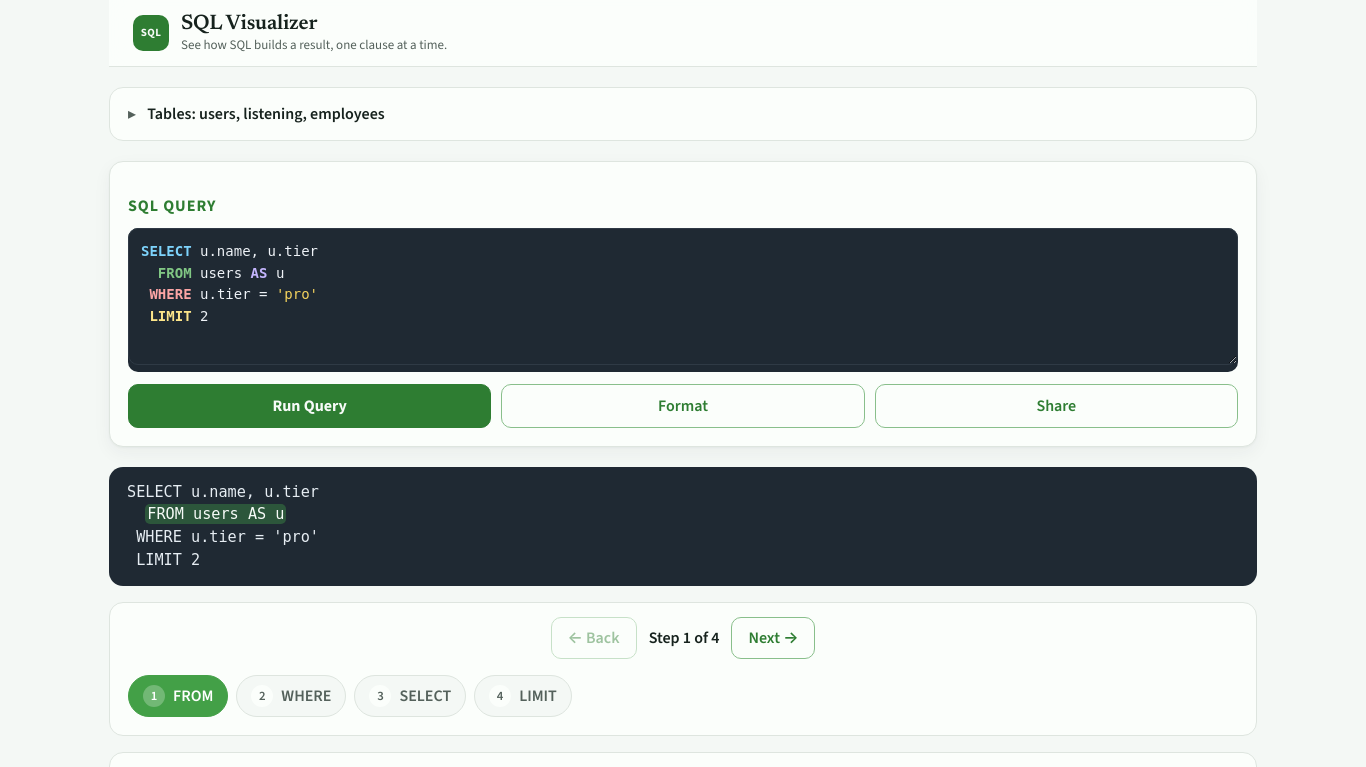
it: App › runs a new query, resets to step 1 and shows friendly errors
The image size is (1366, 767).
Clear the text box labelled "SQL query" at (683, 296), box [128, 228, 1238, 364]
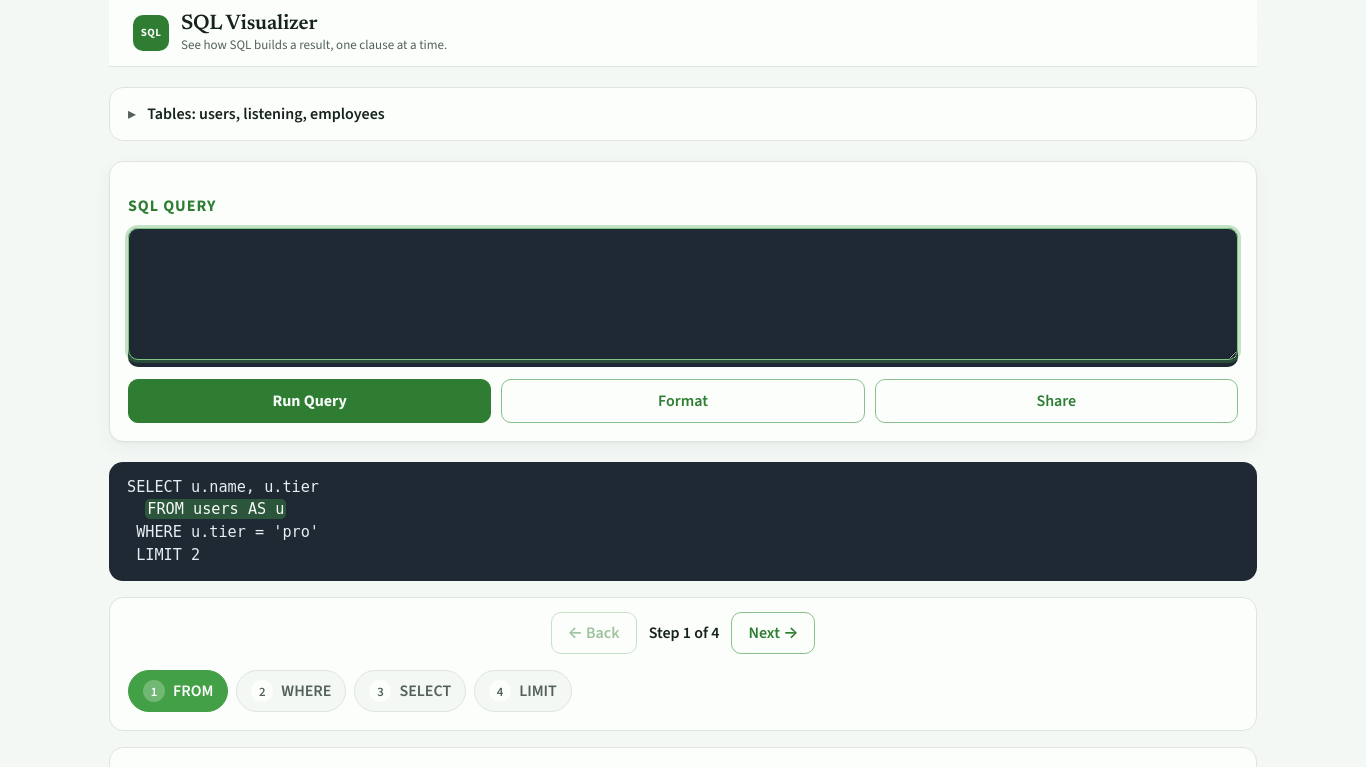
Type "SELECT name FROM users ORDER BY name DESC" into the text box labelled "SQL query" at (683, 294), box [128, 228, 1238, 360]
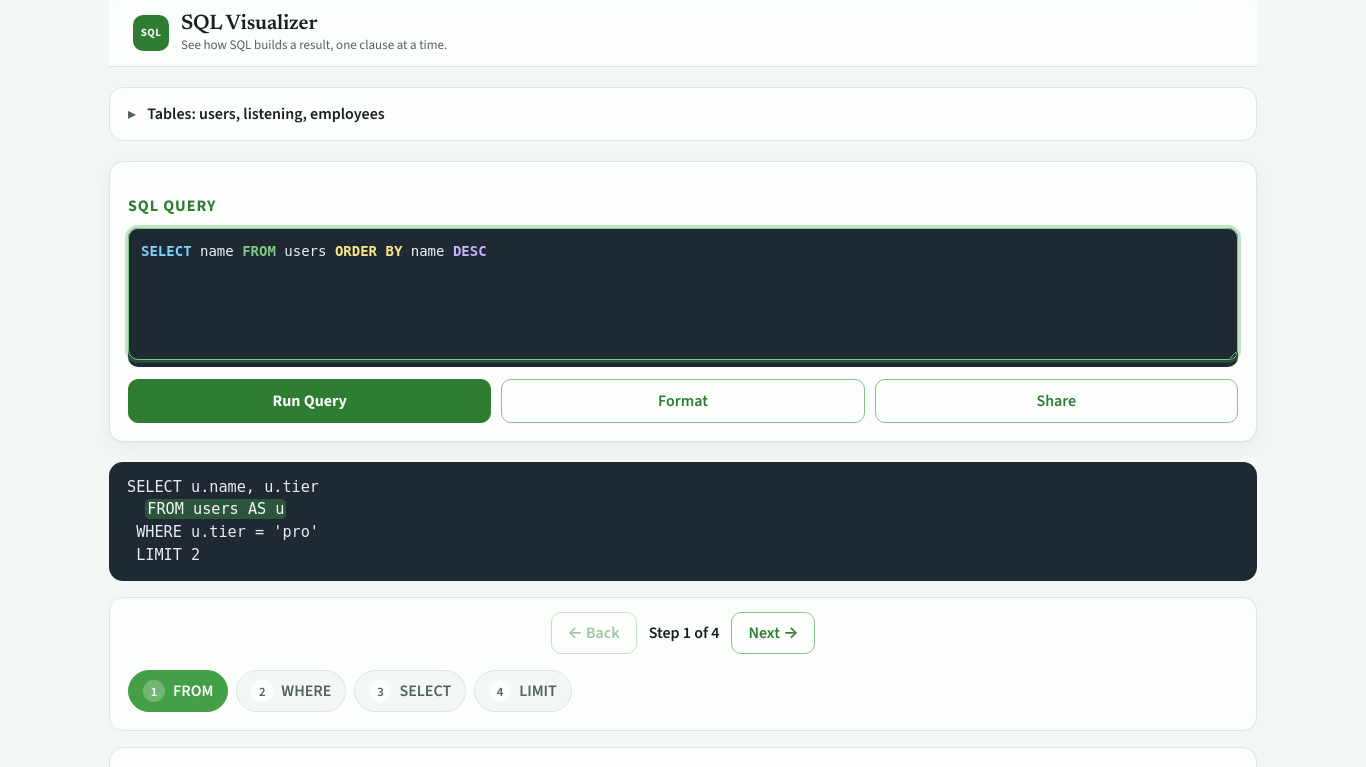
Click the button "Run Query" at (310, 401), box [128, 379, 491, 423]
(page scrolled)
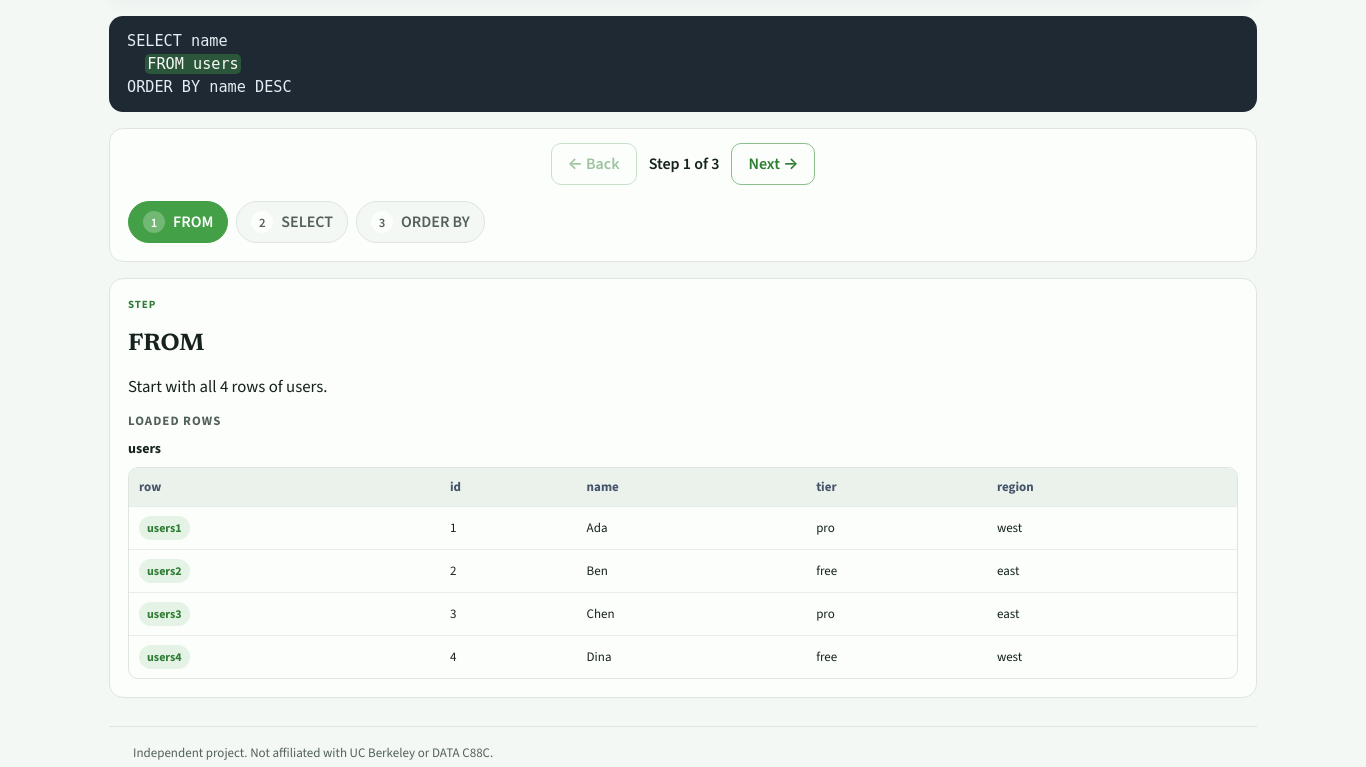
Check: the text "Step 1 of 3" is shown, box [649, 152, 719, 176]
Click the button "3 ORDER BY" at (420, 222), box [356, 202, 485, 244]
(page scrolled)
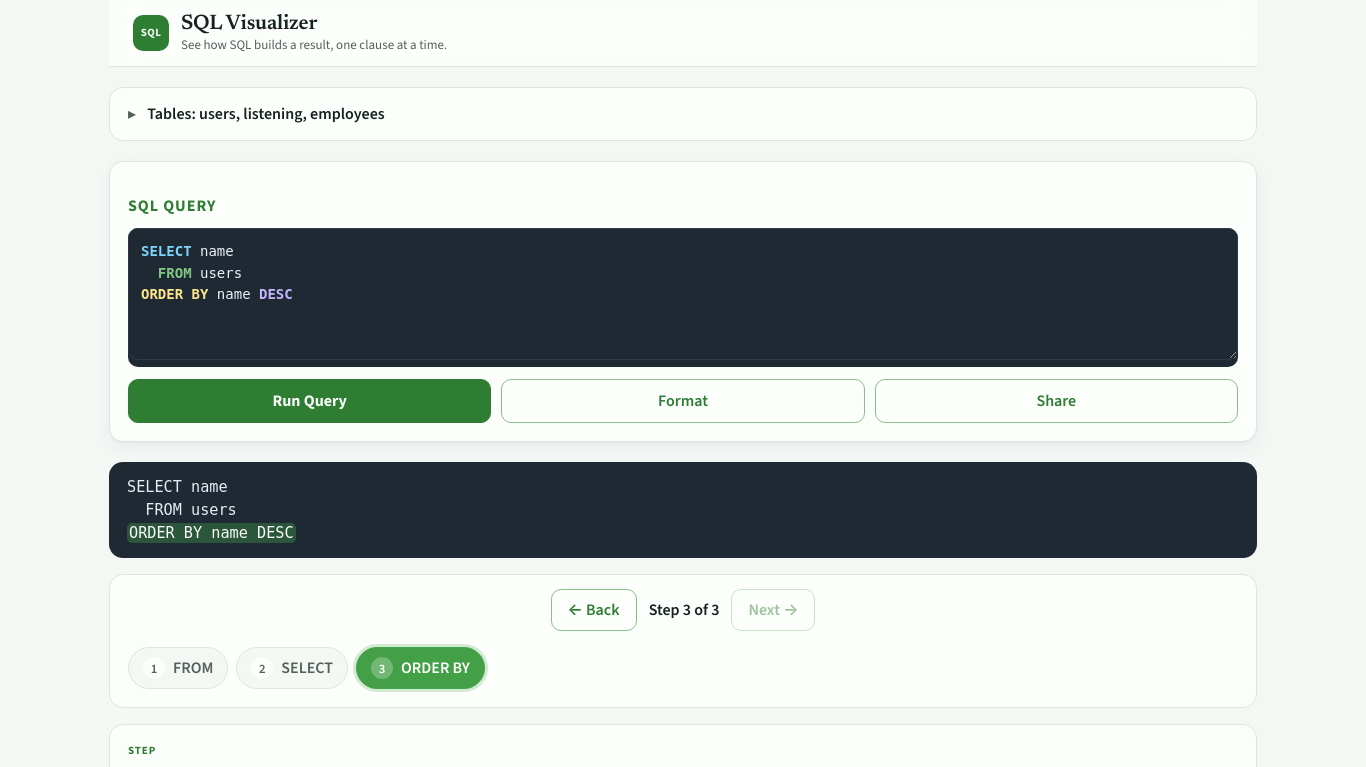
Replace the text in the text box labelled "SQL query" with "SELECT name FROM users LIMIT 2 ORDER BY name" at (683, 294), box [128, 228, 1238, 360]
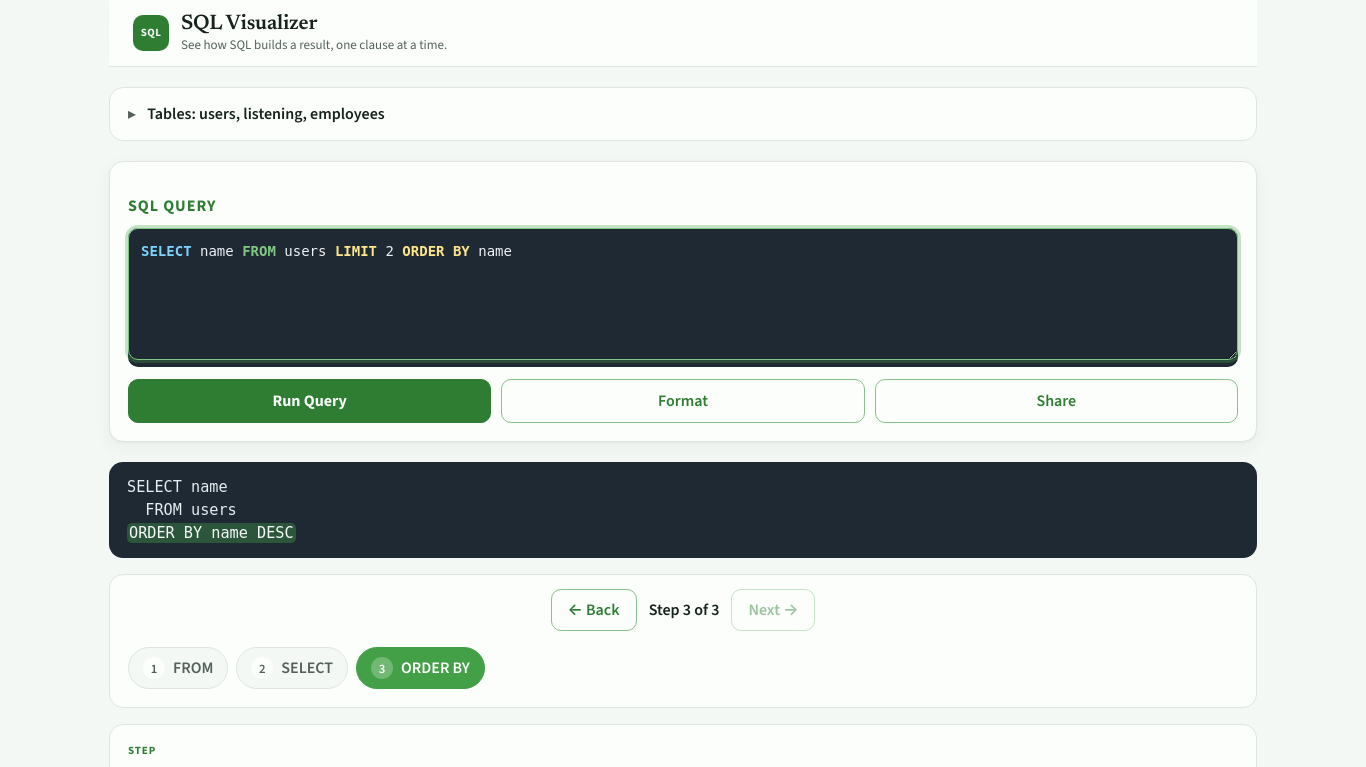
Click the button "Run Query" at (310, 401), box [128, 379, 491, 423]
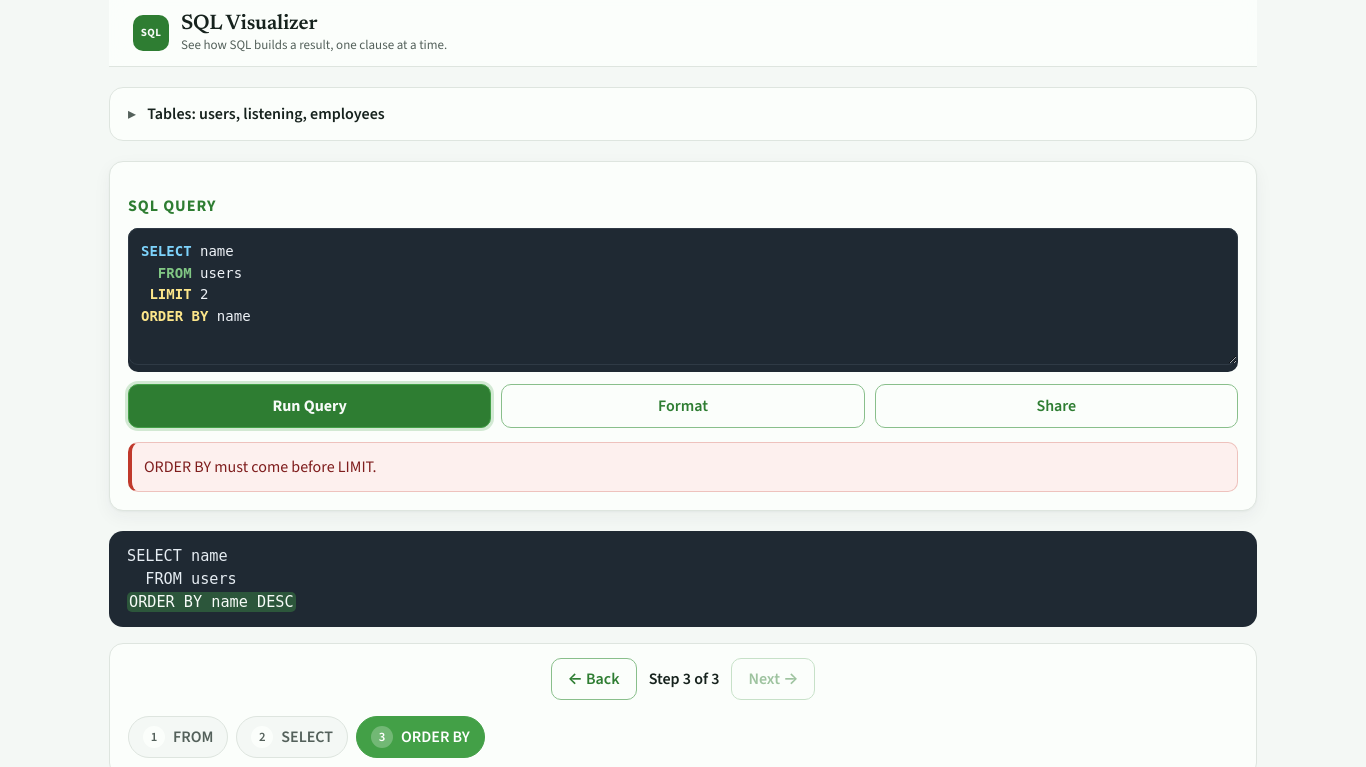
Check: the message reads "ORDER BY must come before LIMIT.", box [144, 456, 376, 476]
